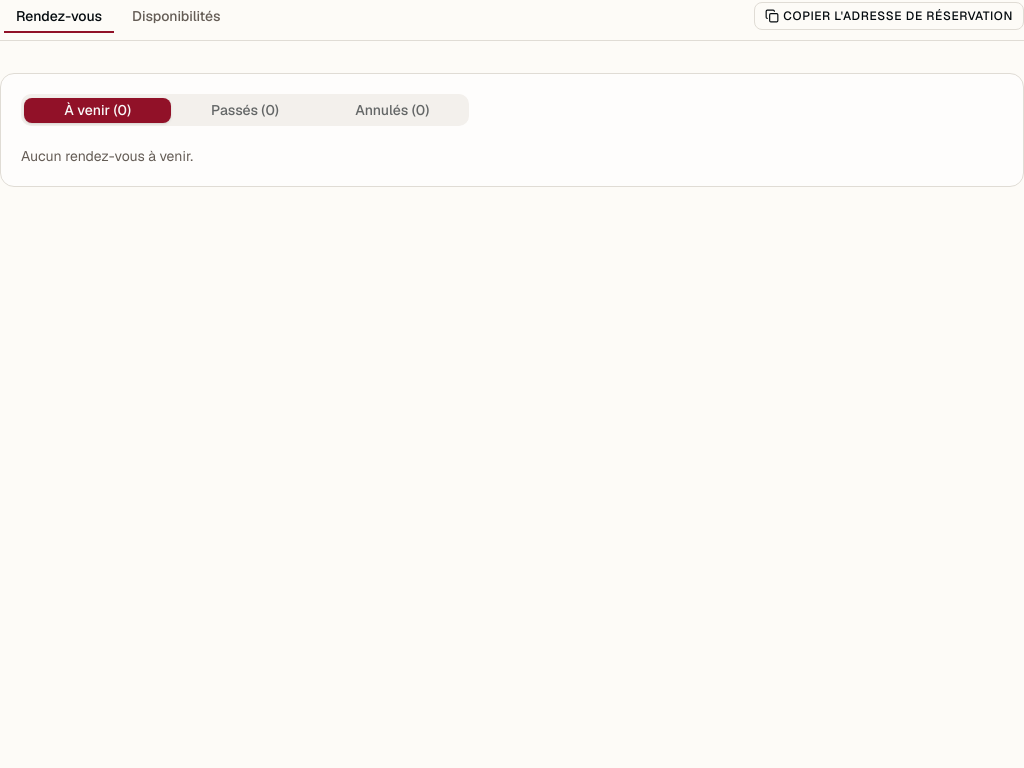
Scenario: RdvManager › affiche les règles fixes en lecture seule
This screenshot has width=1024, height=768.
Click the tab "Disponibilités" at (176, 16), box [119,4,234,28]
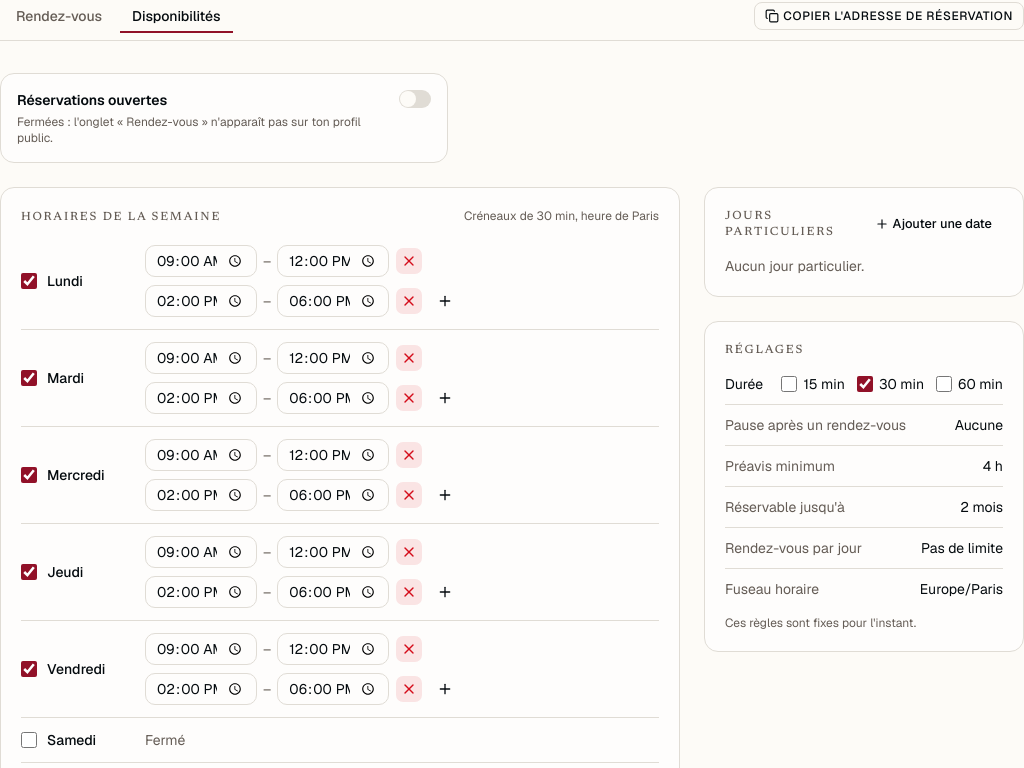
Now the text "4 h" is shown, box [983,456,1003,476]
Now the text "2 mois" is shown, box [960,497,1003,517]
Now the text "Aucune" is shown, box [955,415,1003,435]
